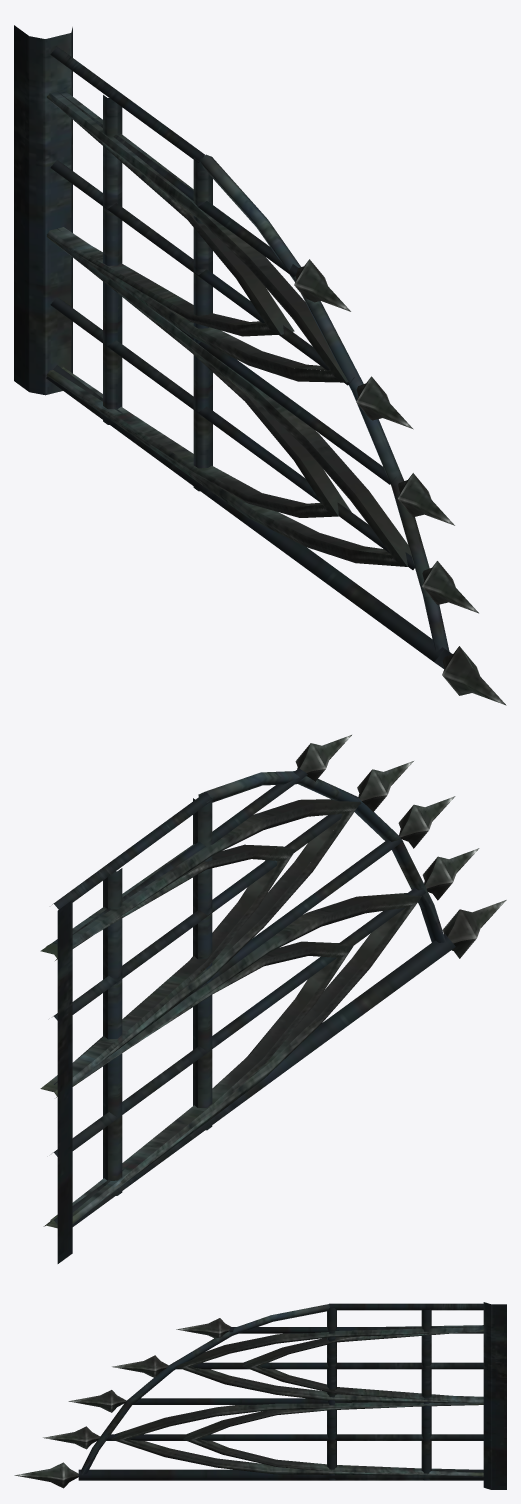
3 views of the same model, one above another, from view 1: azimuth 30°, elevation 25°; view 2: azimuth 150°, elevation 25°; view 3: azimuth 270°, elevation 25° (orthographic). The views are drawn at different scales.
Parts seen in each view (by area): view 1: model_Object41; view 2: model_Object41; view 3: model_Object41.
Part boxes in pixels (bbox=[...]): model_Object41: bbox=[14, 25, 506, 705]; model_Object41: bbox=[40, 735, 506, 1263]; model_Object41: bbox=[14, 1302, 506, 1489].
Bounding box in the file's own units: 0.1208 × 0.9615 × 2.26.
Materials: 1 (1 with a texture image).
